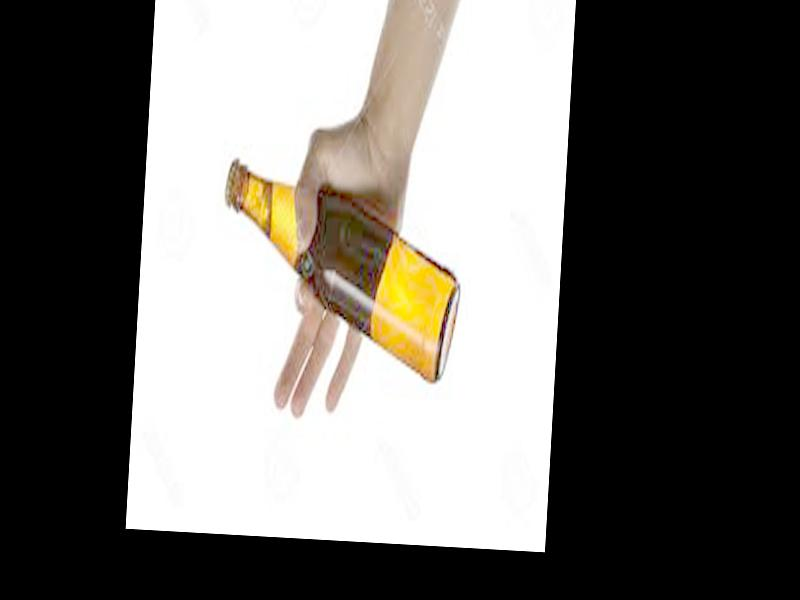Beer: (220, 163, 465, 378)
